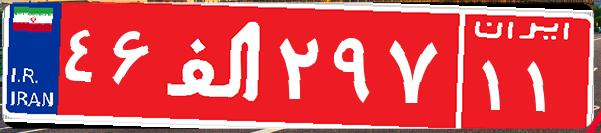1: (475, 38, 525, 113), (525, 38, 570, 115)
2: (273, 28, 330, 110)
4: (57, 26, 110, 107)
6: (110, 28, 158, 105)
7: (385, 28, 445, 110)
9: (330, 28, 385, 110)
الف: (158, 15, 273, 115)
